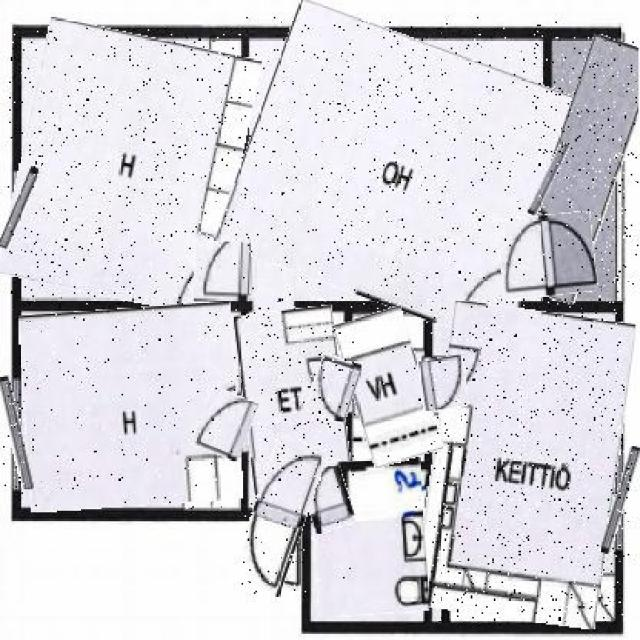door: (242, 437, 316, 597), (498, 214, 596, 297), (195, 391, 254, 458), (195, 242, 251, 302), (303, 468, 352, 532), (310, 356, 358, 418), (419, 356, 466, 410)
window: (606, 444, 632, 556), (3, 375, 28, 491), (4, 166, 30, 249), (536, 141, 562, 217)
zone: (229, 17, 560, 320), (9, 28, 249, 308), (423, 306, 625, 625), (22, 306, 240, 509), (531, 35, 638, 303), (240, 308, 351, 512), (312, 460, 428, 617), (341, 309, 434, 465)
